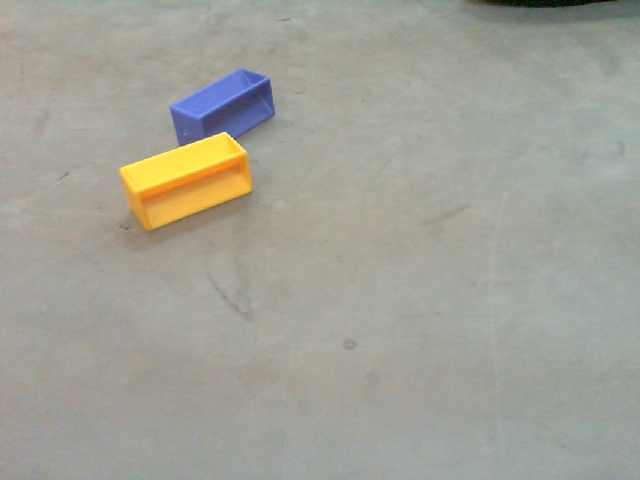BlueSample: (164, 67, 291, 145)
YellowSample: (115, 130, 265, 234)
